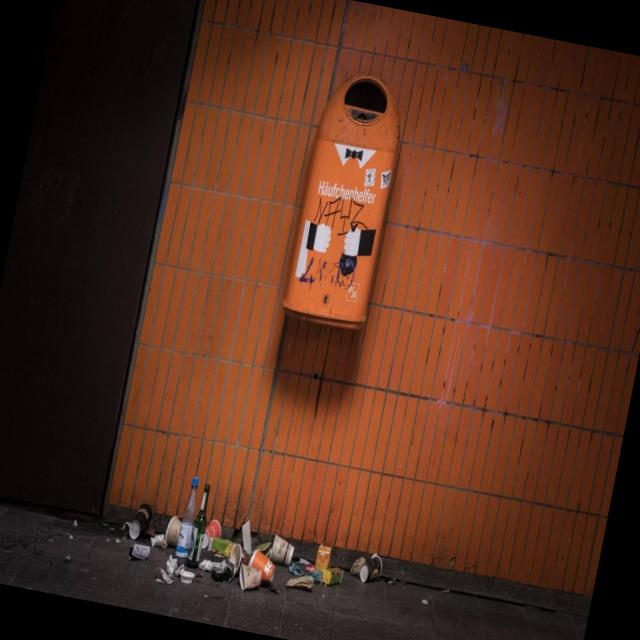garbage: (97, 450, 403, 633)
